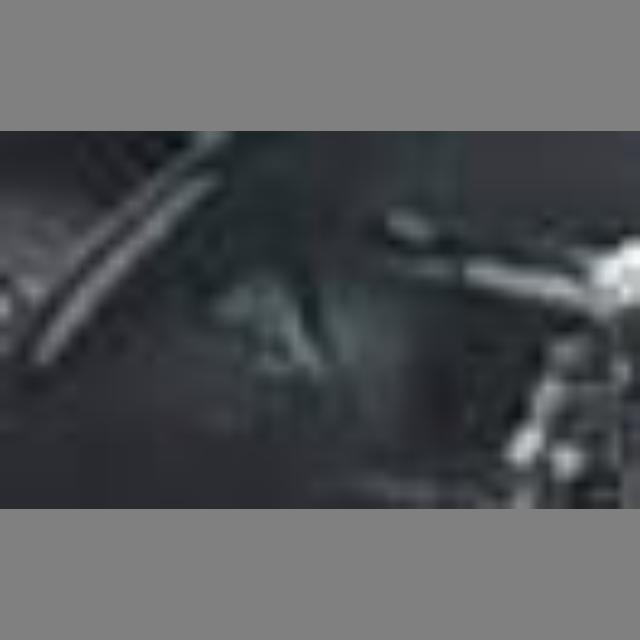pakai: (175, 209, 407, 441)
